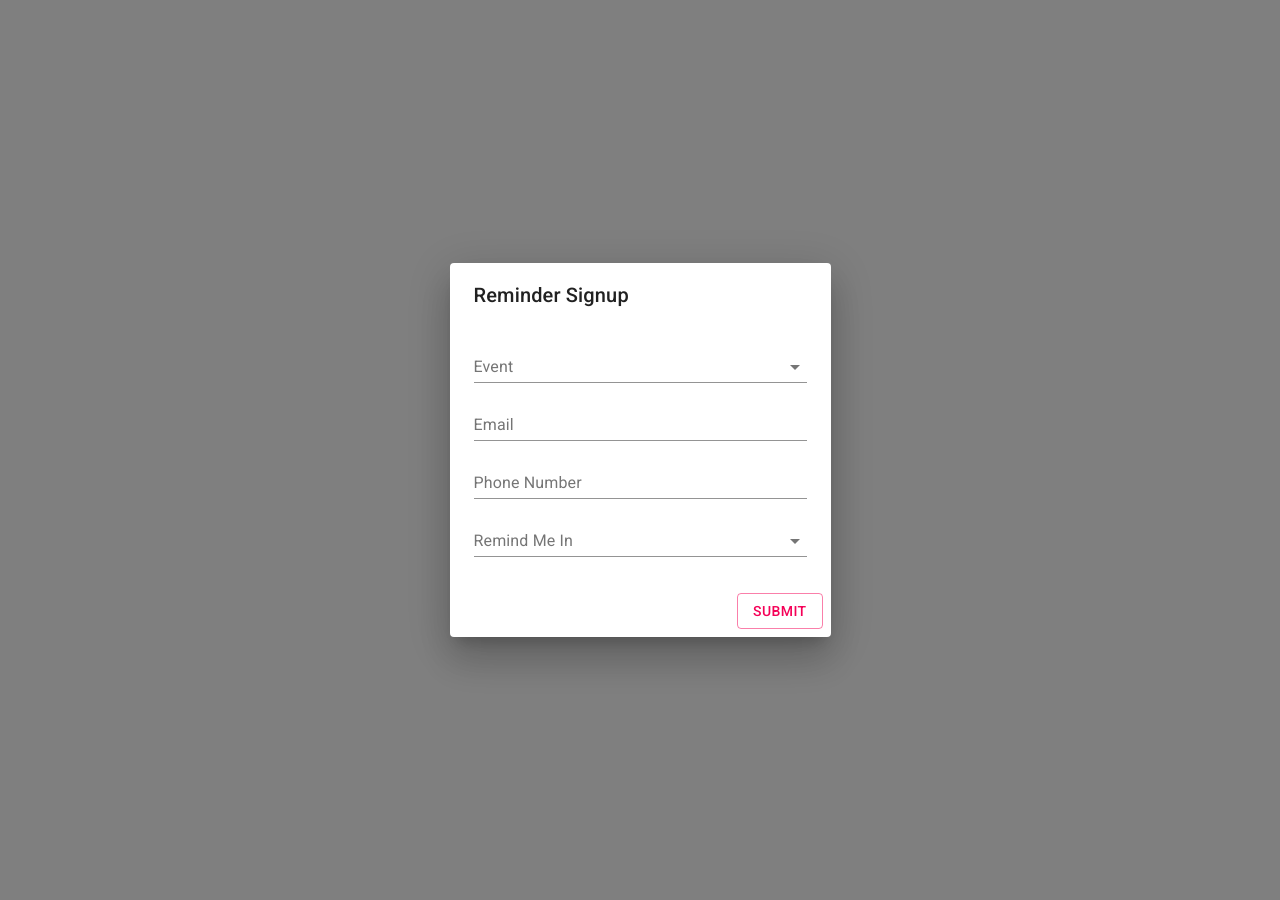
Test case: reminders form › Times in the remind me dropdown render correctly
The width and height of the screenshot is (1280, 900).
# Click it
Click the button without text next to "Remind Me In" at {"x": 640, "y": 541}, box [474, 525, 806, 557]
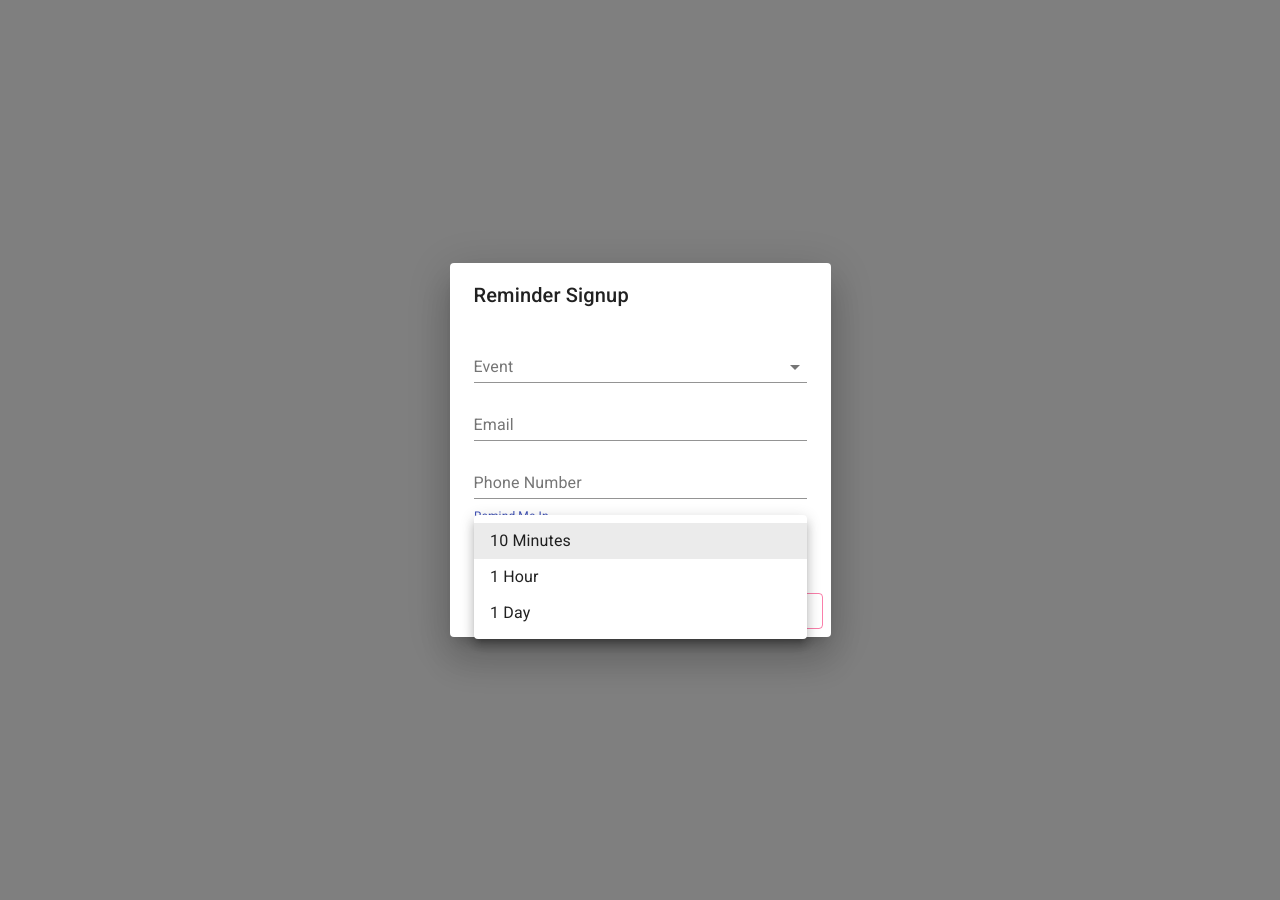
Expected: the option "10 Minutes" is shown, [474, 523, 807, 559]
Expected: the option "1 Hour" is shown, [490, 567, 539, 586]
Expected: the option "1 Day" is shown, [490, 603, 530, 622]
